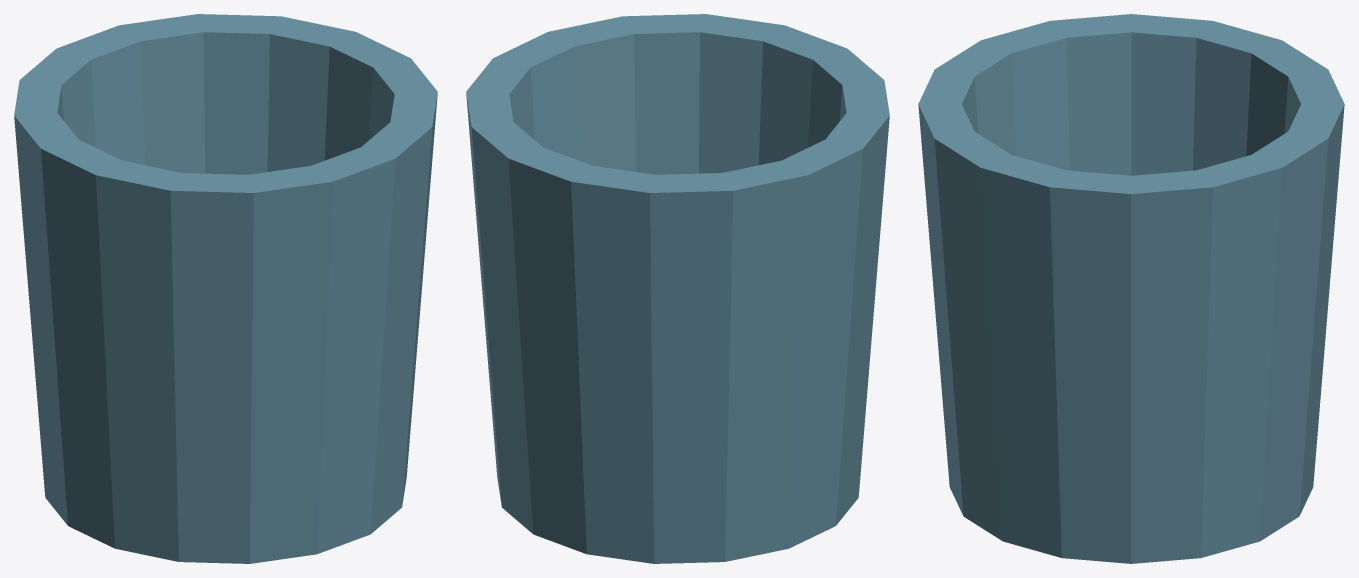
File: mug.fbx
3 views of the same model, side by side, from view 1: azimuth 30°, elevation 25°; view 2: azimuth 150°, elevation 25°; view 3: azimuth 270°, elevation 25° (orthographic).
Parts seen in each view (by area): view 1: Cylinder; view 2: Cylinder; view 3: Cylinder.
Part boxes in pixels (left/top/right/bottom): Cylinder: left=14, top=14, right=437, bottom=563; Cylinder: left=466, top=14, right=889, bottom=563; Cylinder: left=918, top=14, right=1344, bottom=563.
Size of the model in its own units: 200 by 198 by 200.
